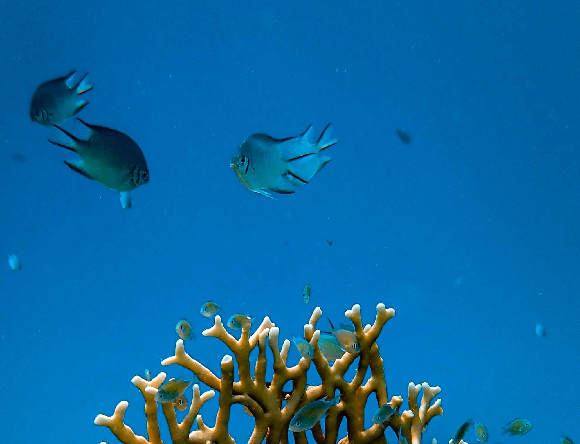fishRound: (48, 117, 151, 195), (229, 131, 316, 200), (288, 122, 340, 195), (30, 69, 95, 124)
fishSmall: (287, 394, 343, 434), (322, 316, 359, 356), (153, 374, 199, 405), (290, 332, 313, 361), (372, 403, 400, 426), (501, 418, 532, 436), (175, 317, 196, 343), (227, 312, 254, 331), (472, 417, 491, 443), (199, 299, 222, 320)
